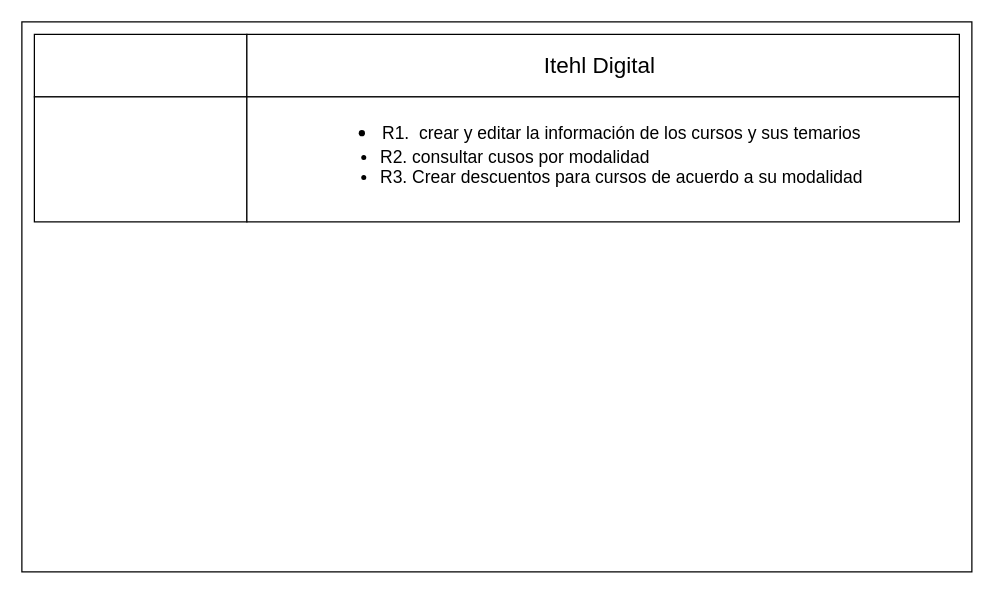
This 994x594 diagram has some shape labels left out. The shapes that lost their labels are listed below. From the top down, each one's centre as x and y in pixels, then its label:
At (x=140, y=65): "Usuario".
At (x=140, y=159): "Requerimientos funcionales".
